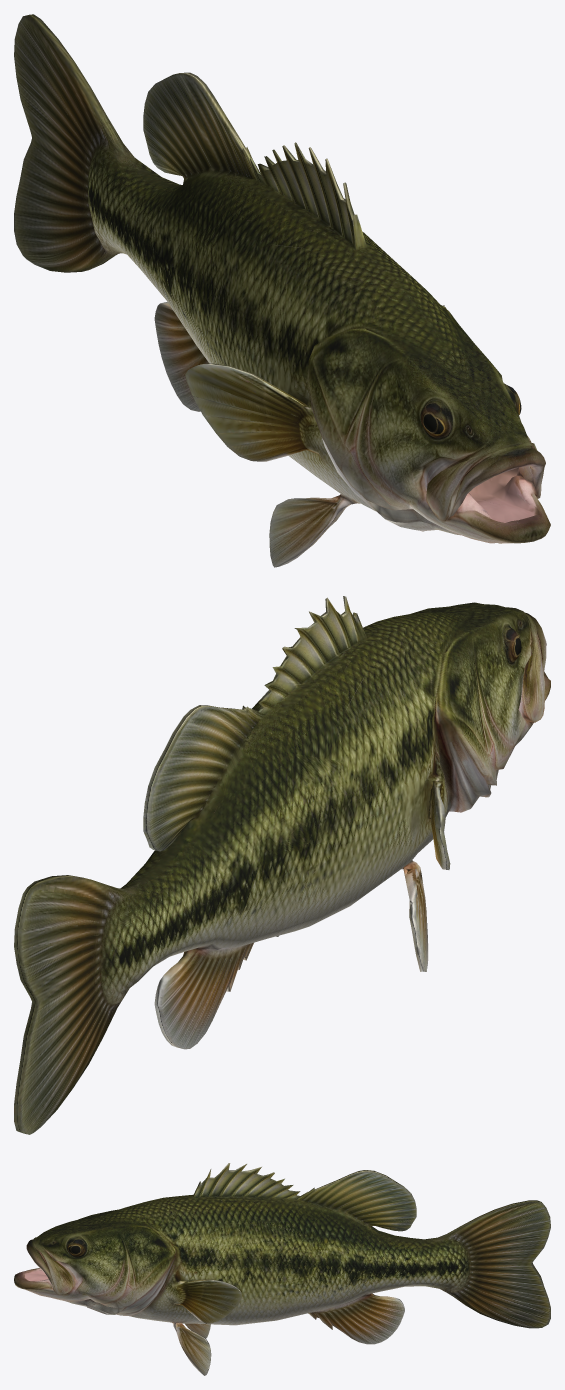
File: poisson.glb
The picture shows the model from 3 angles, top to bottom: view 1: azimuth 30°, elevation 25°; view 2: azimuth 150°, elevation 25°; view 3: azimuth 270°, elevation 25°; orthographic projection. The views are drawn at different scales.
Bounding box in the file's own units: 0.2778 × 0.3828 × 0.9609.
Materials: 1 (1 with a texture image).
